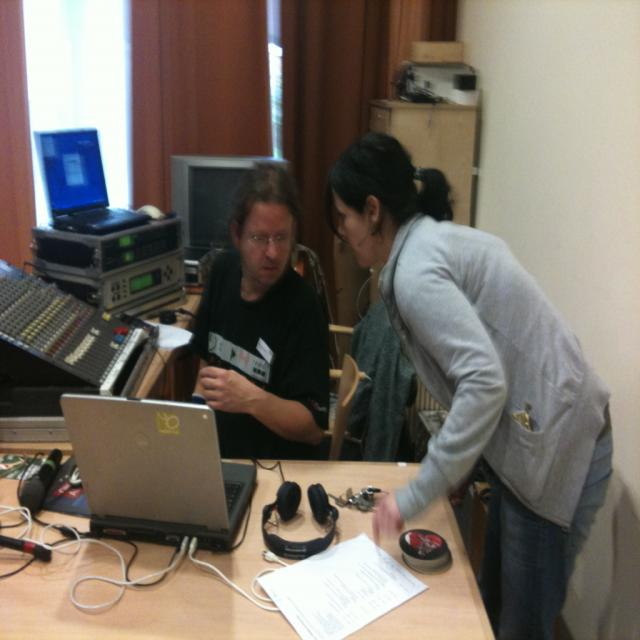desk: (46, 300, 590, 636)
keyboard: (0, 261, 140, 390)
laptop: (59, 392, 258, 552), (32, 127, 152, 239)
person: (328, 135, 618, 639), (186, 160, 330, 458)
tv: (169, 155, 288, 257)
